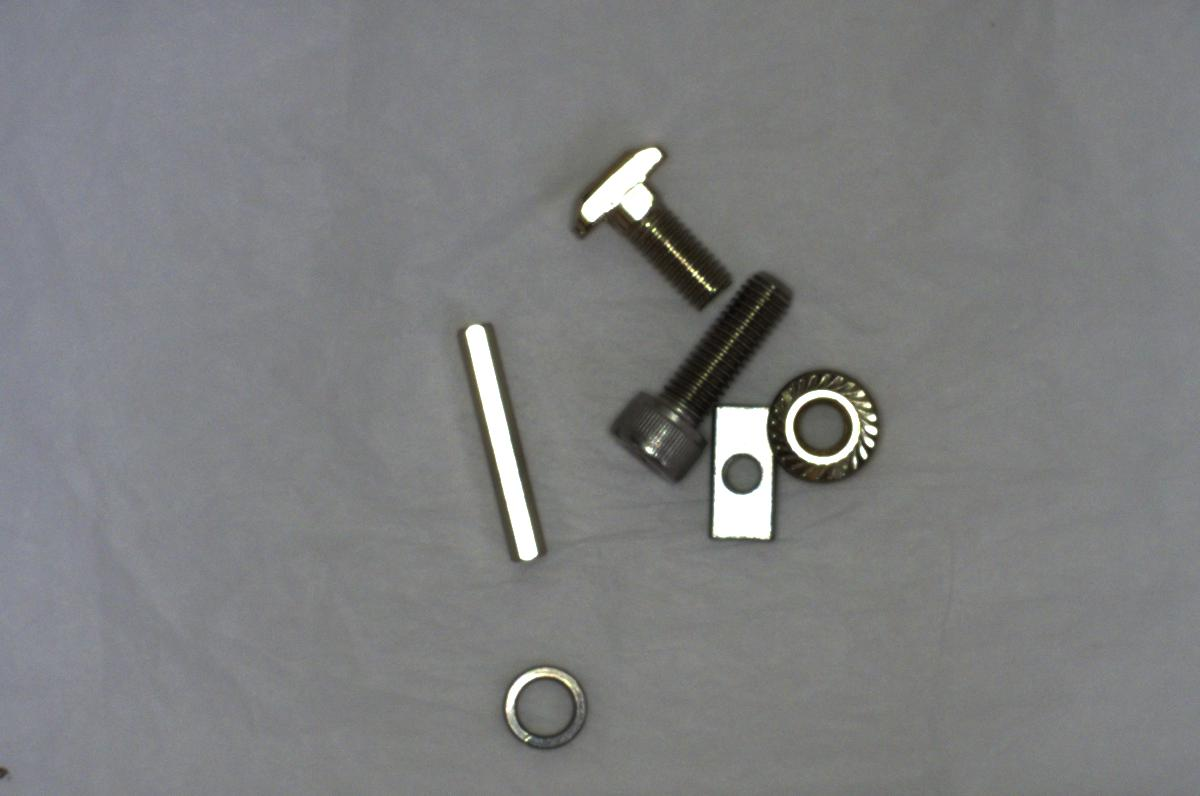Double hexagonal column: (460, 318, 547, 564)
Flange nut: (760, 363, 889, 491)
Hexagon screw: (606, 262, 793, 469)
Rectangular nut: (705, 398, 784, 546)
Spring washer: (501, 658, 594, 749)
T-shaped screw: (569, 141, 732, 308)
